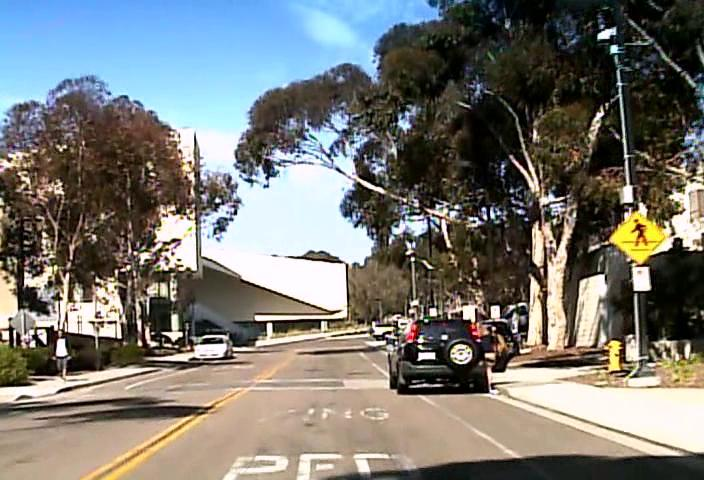pedestrianCrossing: (608, 211, 665, 264)
